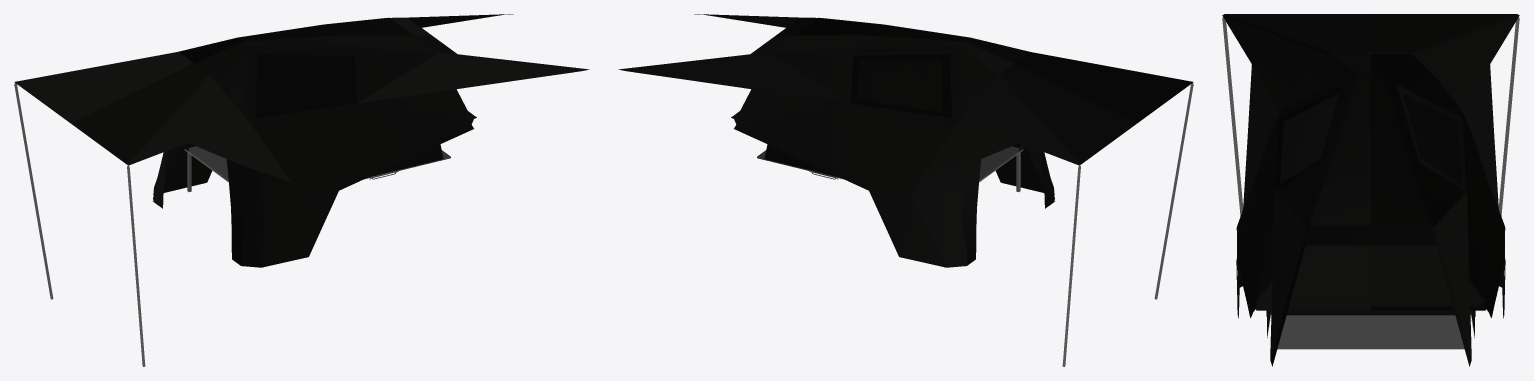
Rendered from BaseCamp.glb.
3 renders of one model, left to right at view 1: azimuth 30°, elevation 25°; view 2: azimuth 150°, elevation 25°; view 3: azimuth 270°, elevation 25°, orthographic. The views are drawn at different scales.
Visible parts, largest first — view 1: BaseCamp2; view 2: BaseCamp2; view 3: BaseCamp2.
Boxes of the visible parts, x1,y1,x2,y2 form: BaseCamp2: [14, 14, 589, 366]; BaseCamp2: [618, 14, 1193, 366]; BaseCamp2: [1222, 14, 1519, 366].
Bounding box in the file's own units: 5.05 × 2.57 × 2.08.
Materials: 7 (6 with a texture image).
